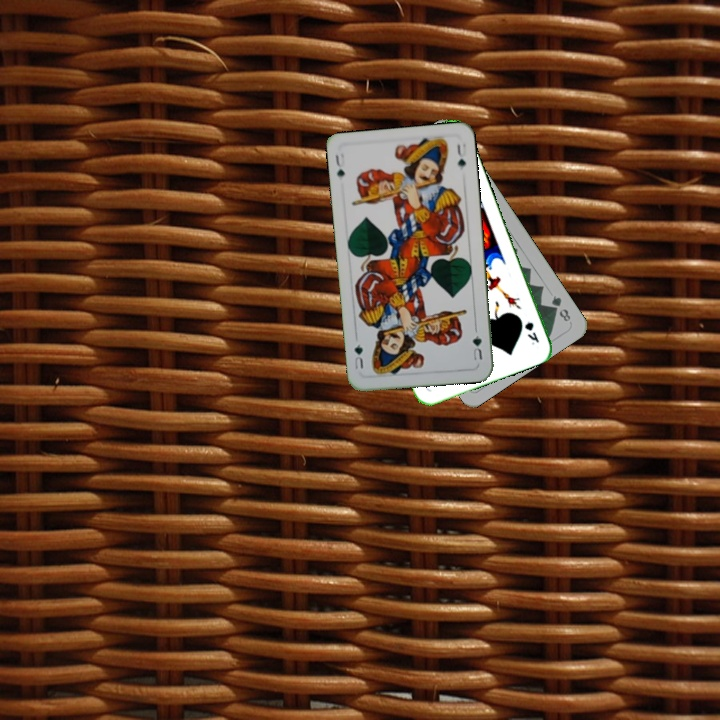G8: (547, 291, 573, 324)
GK: (520, 318, 542, 348)
GU: (468, 331, 485, 364), (331, 150, 348, 180)
